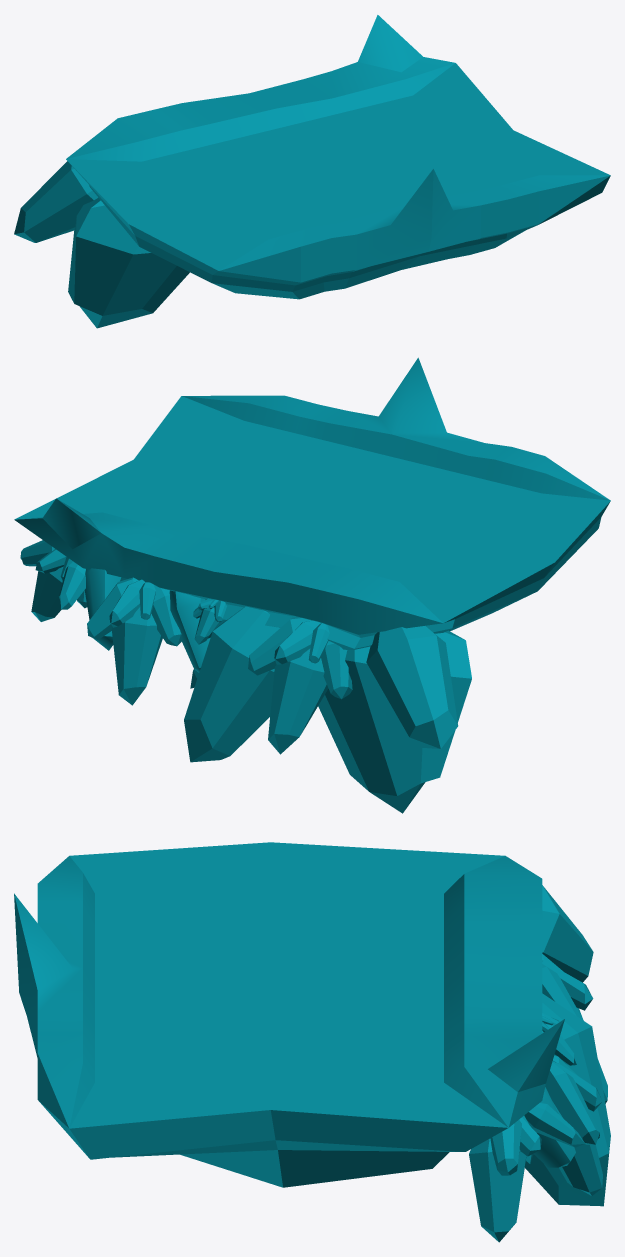
File: Floating_Platfrom_Sml_3.fbx
The picture shows the model from 3 angles, top to bottom: view 1: azimuth 30°, elevation 25°; view 2: azimuth 150°, elevation 25°; view 3: azimuth 270°, elevation 25°; orthographic projection. The views are drawn at different scales.
Visible parts, largest first — view 1: Sml_Platform_3_Combined; view 2: Sml_Platform_3_Combined; view 3: Sml_Platform_3_Combined.
Boxes of the visible parts, left/top/right/bottom form: Sml_Platform_3_Combined: left=14, top=15, right=610, bottom=328; Sml_Platform_3_Combined: left=14, top=357, right=610, bottom=813; Sml_Platform_3_Combined: left=14, top=842, right=610, bottom=1242.
Bounding box in the file's own units: 1.8 × 1.02 × 1.55.
